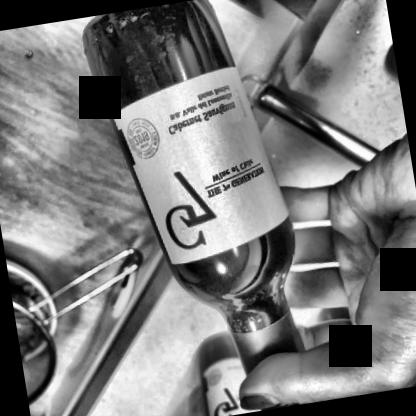G7: (105, 57, 296, 279)
